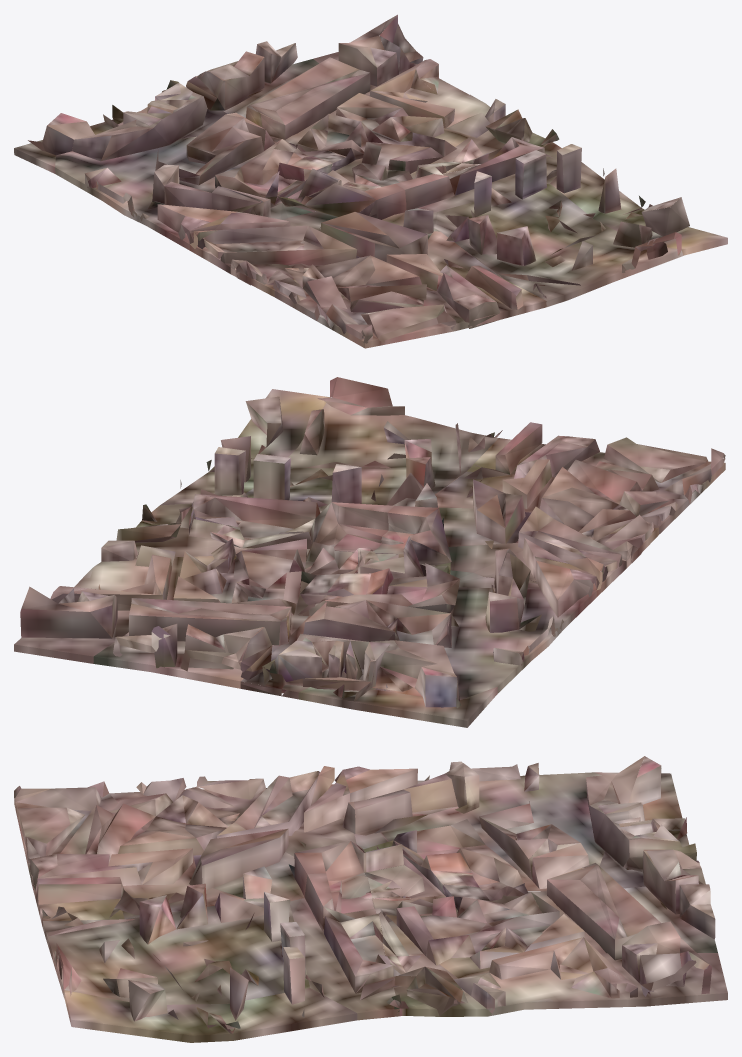
3 renders of one model, top to bottom at view 1: azimuth 30°, elevation 25°; view 2: azimuth 150°, elevation 25°; view 3: azimuth 270°, elevation 25°, orthographic. The views are drawn at different scales.
Parts seen in each view (by area): view 1: Mesh_0; view 2: Mesh_0; view 3: Mesh_0.
Boxes of the visible parts, left/top/right/bottom form: Mesh_0: left=14, top=14, right=727, bottom=348; Mesh_0: left=14, top=377, right=725, bottom=727; Mesh_0: left=14, top=756, right=727, bottom=1042.
Size of the model in its own units: 532 by 71.83 by 659.
2 materials, 2 textured.
